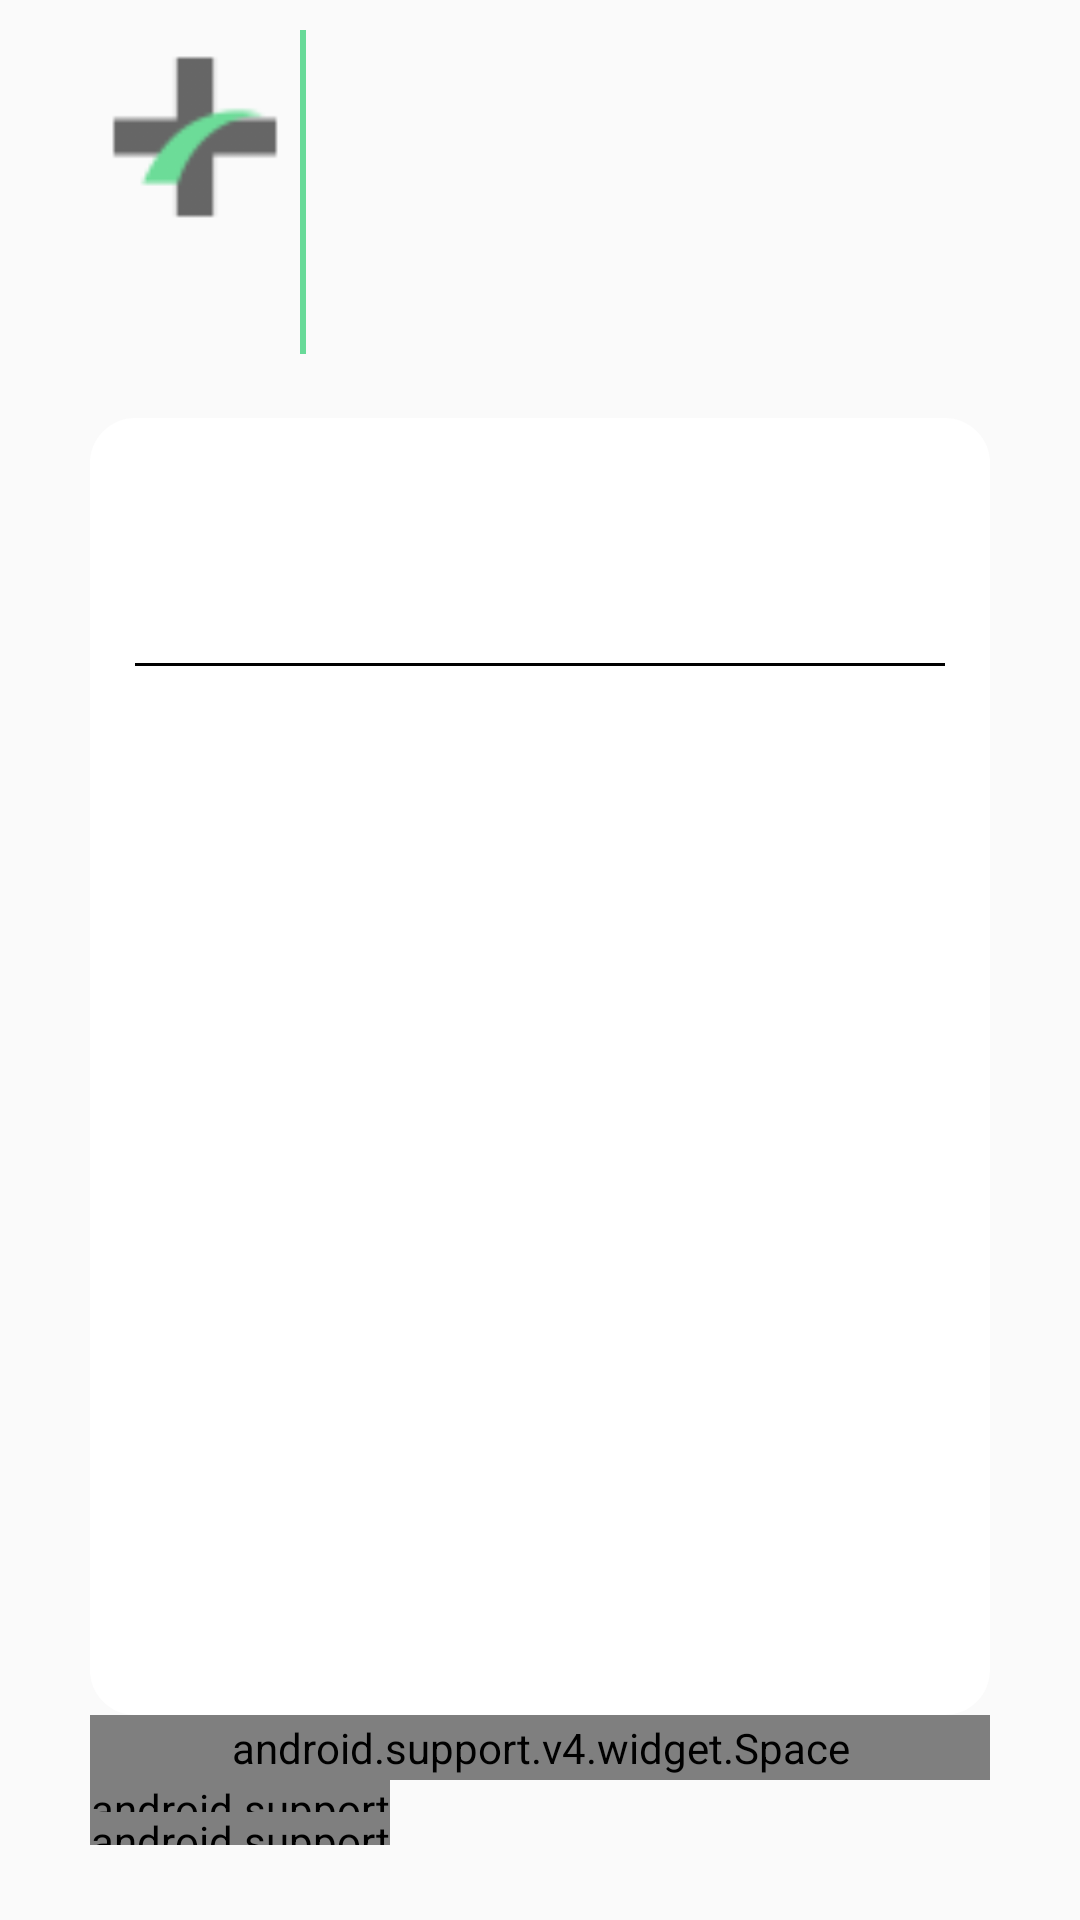

Icons on this 1080px x 1920px Android screen, each with the point to tap as [x,y]:
hospital: [195,137]
